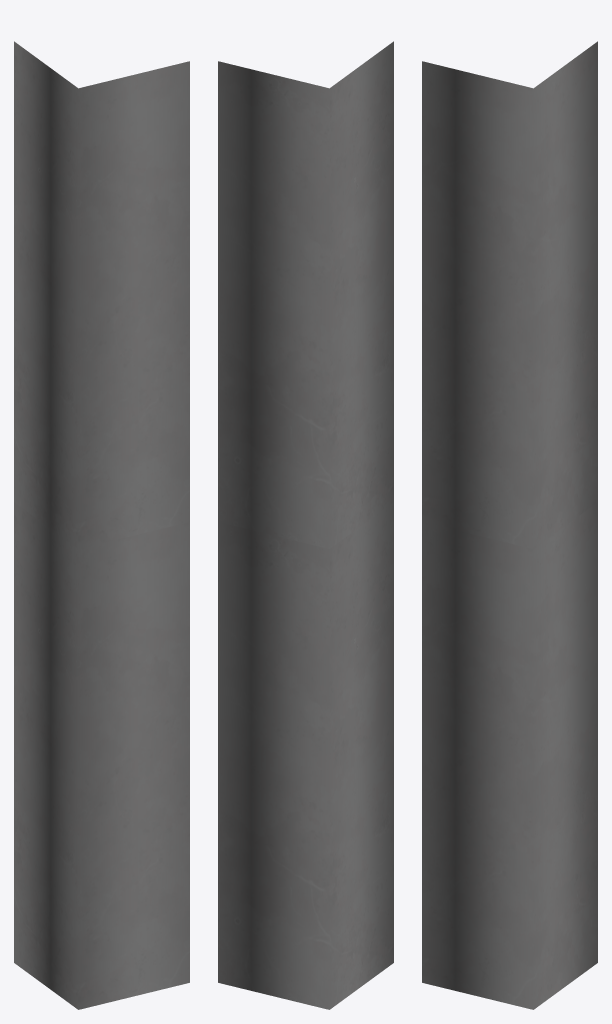
Rendered from SM_Building_WallCorner_01.glb.
3 views of the same model, side by side, from view 1: azimuth 30°, elevation 25°; view 2: azimuth 150°, elevation 25°; view 3: azimuth 330°, elevation 25° (orthographic).
Visible parts, largest first — view 1: SM_Building_WallCorner_01; view 2: SM_Building_WallCorner_01; view 3: SM_Building_WallCorner_01.
Part boxes in pixels (x1,y1,x2,y2): SM_Building_WallCorner_01: (14, 41, 189, 1009); SM_Building_WallCorner_01: (218, 41, 393, 1009); SM_Building_WallCorner_01: (422, 41, 597, 1009).
Bounding box in the file's own units: 0.38 × 3 × 0.38.
1 material, 1 textured.
